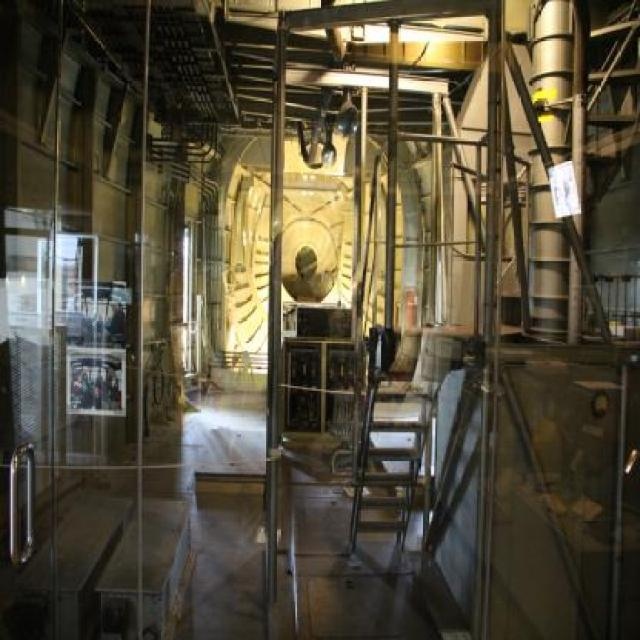stair: (349, 365, 431, 549)
